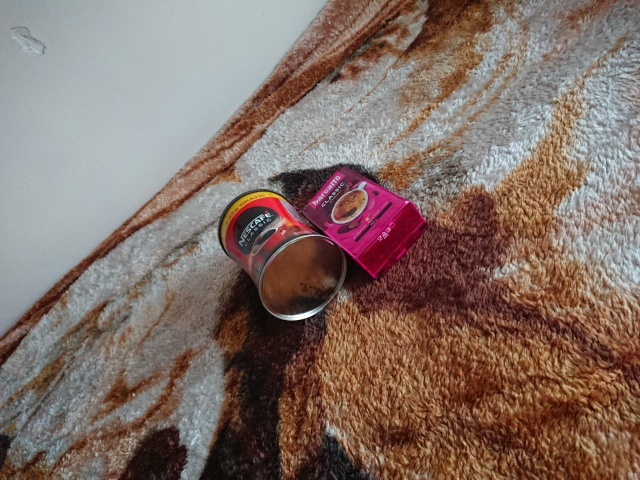Barcaffe Classic Original 225g: (294, 163, 432, 284)
Nescafe Classic 225g: (215, 186, 350, 323)
